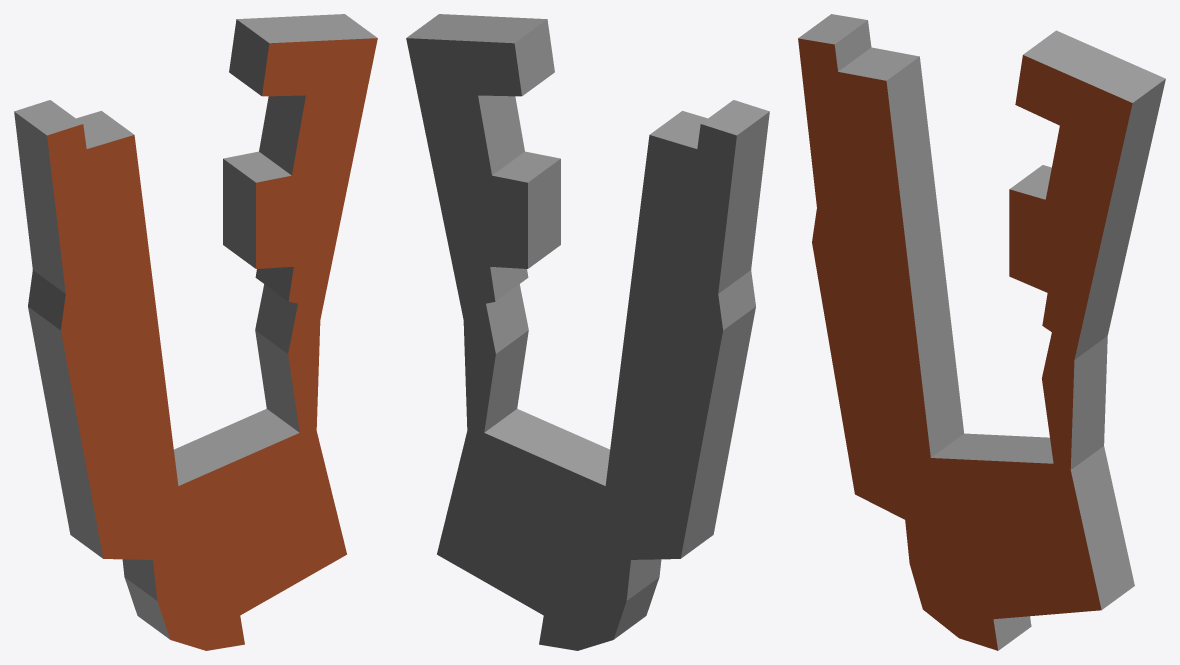
The model's file is construction_1412_assumed_A_Casa_h6m.obj.
3 renders of one model, left to right at view 1: azimuth 30°, elevation 25°; view 2: azimuth 150°, elevation 25°; view 3: azimuth 330°, elevation 25°, orthographic.
Parts seen in each view (by area): view 1: construction_1412_assumed_A_Casa; view 2: construction_1412_assumed_A_Casa; view 3: construction_1412_assumed_A_Casa.
Boxes of the visible parts, x1,y1,x2,y2 form: construction_1412_assumed_A_Casa: (14,14,377,650); construction_1412_assumed_A_Casa: (406,14,769,650); construction_1412_assumed_A_Casa: (798,14,1165,650).
Bounding box in the file's own units: 34.78 × 59.81 × 6.
